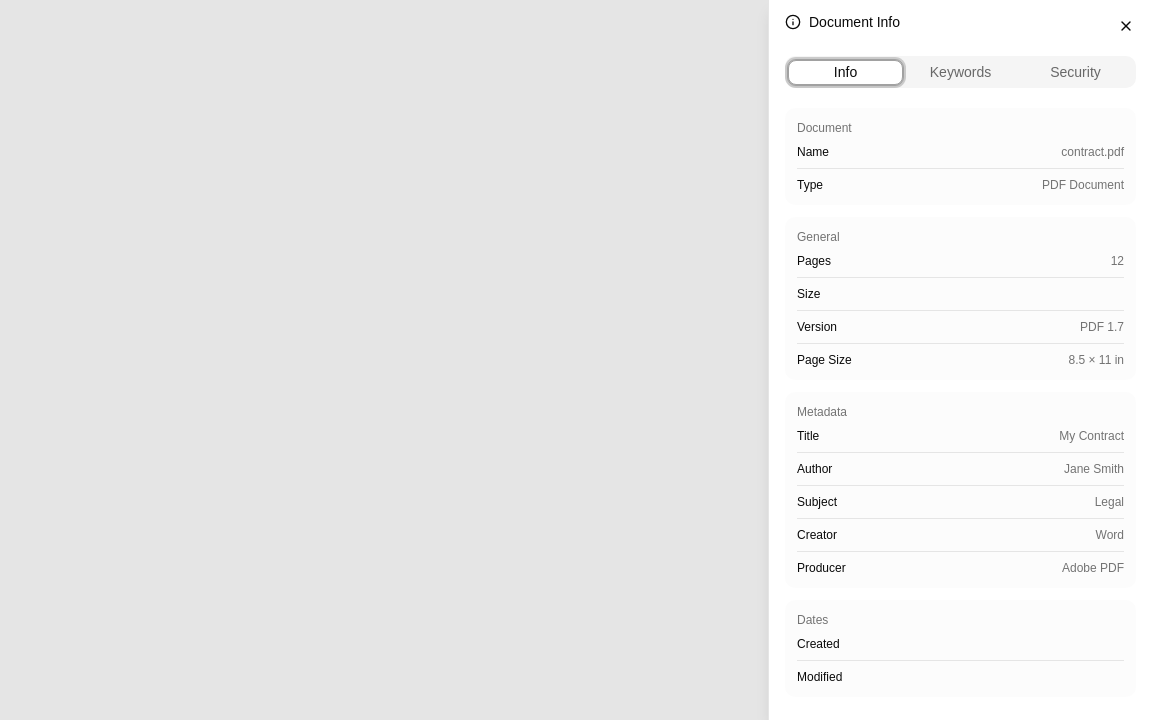
InfoPanel — Security tab › shows 'Encrypted (Rev. 3)' for a protected doc
This screenshot has width=1152, height=720.
What coordinates should you click on to do the following:
click the tab "Security"
I would click on:
 (1076, 72)
Its box is [1018, 60, 1133, 84].
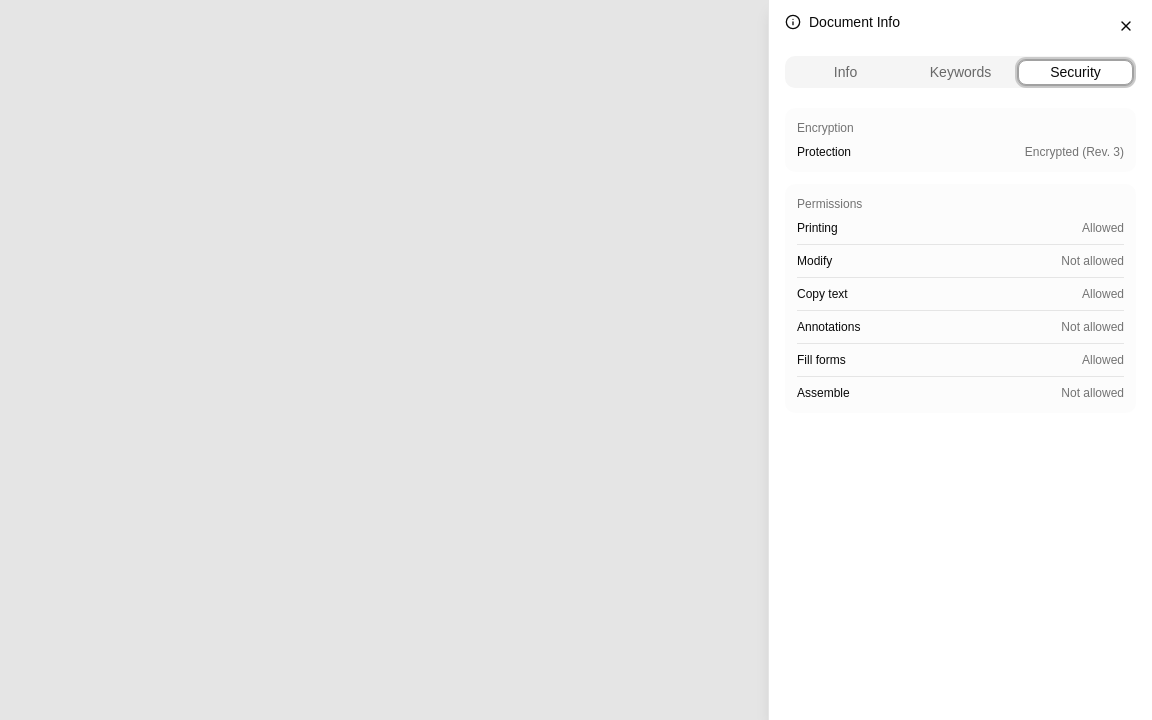
Expected: the text "Encrypted (Rev. 3)" is shown, [1025, 144, 1124, 160]
